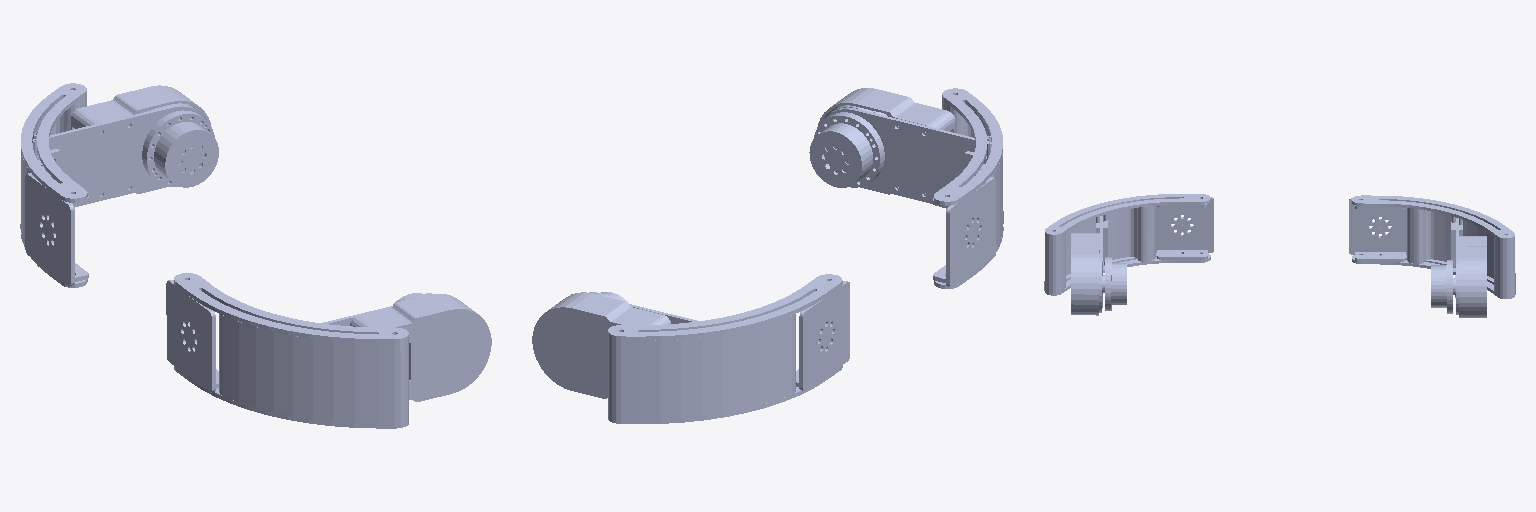
The robot description file, URDF, robot "exoskeleton_btp":
<?xml version="1.0" encoding="utf-8" ?>
<!-- This URDF was automatically created by SolidWorks to URDF Exporter! Originally created by [author] ([email redacted]) 
     Commit Version: 1.5.1-0-g916b5db  Build Version: 1.5.7152.31018
     For more information, please see http://wiki.ros.org/sw_urdf_exporter -->
<robot name="exoskeleton_btp">
    <link name="base_link">
        
<inertial>
            <origin xyz="0.1374 0.17784 0.29296" rpy="0 0 0" />
            <mass value="1.6284" />
            <inertia ixx="0.0049242" ixy="-1.1068E-07" ixz="1.4133E-05" iyy="0.0012571" iyz="6.8671E-06" izz="0.0040482" />
        </inertial>

        <visual>
            <origin xyz="0 0 0" rpy="0 0 0" />
            <geometry>
                <mesh filename="package://exoskeleton_btp/meshes/base_link.STL" />
            </geometry>
            <material name="">
                <color rgba="0.79216 0.81961 0.93333 1" />
            </material>
        </visual>
        <collision>
            <origin xyz="0 0 0" rpy="0 0 0" />
            <geometry>
                <mesh filename="package://exoskeleton_btp/meshes/base_link.STL" />
            </geometry>
        </collision>
    </link>
    <link name="right_abd">
        
<inertial>
            <origin xyz="0.060901 0.00077301 0.1073" rpy="0 0 0" />
            <mass value="0.39057" />
            <inertia ixx="0.0017341" ixy="-6.9806E-06" ixz="-0.0009688" iyy="0.0022726" iyz="-8.6331E-06" izz="0.0010696" />
        </inertial>

        <visual>
            <origin xyz="0 0 0" rpy="0 0 0" />
            <geometry>
                <mesh filename="package://exoskeleton_btp/meshes/right_abd.STL" />
            </geometry>
            <material name="">
                <color rgba="0.79216 0.81961 0.93333 1" />
            </material>
        </visual>
        <collision>
            <origin xyz="0 0 0" rpy="0 0 0" />
            <geometry>
                <mesh filename="package://exoskeleton_btp/meshes/right_abd.STL" />
            </geometry>
        </collision>
    </link>
    <joint name="joint_right_abd" type="continuous">
        <origin xyz="0.18866 -0.44997 0.15871" rpy="1.5762 -8.7598E-05 0" />
        <parent link="base_link" />
        <child link="right_abd" />
        <axis xyz="-0.99987 0 -0.016127" />
        <limit lower="-1.57" upper="1.57" effort="50" velocity="2" />
    </joint>
    <link name="right_IR">
        
<inertial>
            <origin xyz="-0.0392871810712728 0.0411109744677959 0.138935601316326" rpy="0 0 0" />
            <mass value="0.603610840109084" />
            <inertia ixx="0.000492310842165682" ixy="-2.43938943929523E-07" ixz="-1.74058723223123E-05" iyy="0.000854839735660645" iyz="2.49487643777159E-06" izz="0.00119850539145051" />
        </inertial>

        <visual>
            <origin xyz="0 0 0" rpy="0 0 0" />
            <geometry>
                <mesh filename="package://exoskeleton_btp/meshes/right_IR.STL" />
            </geometry>
            <material name="">
                <color rgba="0.792156862745098 0.819607843137255 0.933333333333333 1" />
            </material>
        </visual>
        <collision>
            <origin xyz="0 0 0" rpy="0 0 0" />
            <geometry>
                <mesh filename="package://exoskeleton_btp/meshes/right_IR.STL" />
            </geometry>
        </collision>
    </link>
    <joint name="joint_right_ir" type="continuous">
        <origin xyz="0.23659 -0.03974 0.0041779" rpy="0 -0.008859 6.4417E-05" />
        <parent link="right_abd" />
        <child link="right_IR" />
        <axis xyz="-0.00011727 -0.99997 0.0072704" />
        <limit lower="-0.78" upper="0.78" effort="0" velocity="0" />
    </joint>
    <link name="right_thigh">
        
<inertial>
            <origin xyz="-0.00587420466230082 -0.298902174142625 0.091775599276321" rpy="0 0 0" />
            <mass value="1.15370911386034" />
            <inertia ixx="0.00218007175592022" ixy="-1.55748585880625E-05" ixz="-4.42415137653492E-06" iyy="0.00132233462272001" iyz="5.74444533558131E-05" izz="0.00283882830556965" />
        </inertial>

        <visual>
            <origin xyz="0 0 0" rpy="0 0 0" />
            <geometry>
                <mesh filename="package://exoskeleton_btp/meshes/right_thigh.STL" />
            </geometry>
            <material name="">
                <color rgba="0.792156862745098 0.819607843137255 0.933333333333333 1" />
            </material>
        </visual>
        <collision>
            <origin xyz="0 0 0" rpy="0 0 0" />
            <geometry>
                <mesh filename="package://exoskeleton_btp/meshes/right_thigh.STL" />
            </geometry>
        </collision>
    </link>
    <joint name="joint_right_hip_flexion" type="continuous">
        <origin xyz="-0.0098949 0.050182 -0.00036542" rpy="0 0.00014564 0.020031" />
        <parent link="right_IR" />
        <child link="right_thigh" />
        <axis xyz="-5.6331E-05 0.0072704 0.99997" />
        <limit lower="-1.57" upper="1.57" effort="50" velocity="2" />
    </joint>
    <link name="right_shin">
        
<inertial>
            <origin xyz="-0.00484324975988659 -0.249966332784877 0.0473164354576108" rpy="0 0 0" />
            <mass value="1.02843390965148" />
            <inertia ixx="0.00235506979229389" ixy="-4.16475367765636E-05" ixz="-5.53584798297785E-06" iyy="0.00135441560259714" iyz="3.29601832998121E-05" izz="0.00314486729465403" />
        </inertial>

        <visual>
            <origin xyz="0 0 0" rpy="0 0 0" />
            <geometry>
                <mesh filename="package://exoskeleton_btp/meshes/right_shin.STL" />
            </geometry>
            <material name="">
                <color rgba="0.792156862745098 0.819607843137255 0.933333333333333 1" />
            </material>
        </visual>
        <collision>
            <origin xyz="0 0 0" rpy="0 0 0" />
            <geometry>
                <mesh filename="package://exoskeleton_btp/meshes/right_shin.STL" />
            </geometry>
        </collision>
    </link>
    <joint name="right_knee_joint" type="continuous">
        <origin xyz="-0.0080859 -0.43466 0.0031598" rpy="0 -4.2582E-05 -0.0058569" />
        <parent link="right_thigh" />
        <child link="right_shin" />
        <axis xyz="-5.6331E-05 0.0072704 0.99997" />
        <limit lower="0" upper="1.57" effort="50" velocity="2" />
    </joint>
    <link name="right_foot">
        
<inertial>
            <origin xyz="0.0270286138870783 -0.0603750401354918 -0.0491138257398857" rpy="0 0 0" />
            <mass value="0.488467661155972" />
            <inertia ixx="0.000615128535492023" ixy="3.500753715996E-06" ixz="-1.67688728203427E-08" iyy="0.000990291323750016" iyz="-3.84872415697616E-06" izz="0.000460939635747118" />
        </inertial>

        <visual>
            <origin xyz="0 0 0" rpy="0 0 0" />
            <geometry>
                <mesh filename="package://exoskeleton_btp/meshes/right_foot.STL" />
            </geometry>
            <material name="">
                <color rgba="0.792156862745098 0.819607843137255 0.933333333333333 1" />
            </material>
        </visual>
        <collision>
            <origin xyz="0 0 0" rpy="0 0 0" />
            <geometry>
                <mesh filename="package://exoskeleton_btp/meshes/right_foot.STL" />
            </geometry>
        </collision>
    </link>
    <joint name="right_ankle_flexion" type="continuous">
        <origin xyz="-0.0076107 -0.41617 0.0029527" rpy="0 -0.00017972 -0.024724" />
        <parent link="right_shin" />
        <child link="right_foot" />
        <axis xyz="-5.6331E-05 0.0072704 0.99997" />
        <limit lower="-0.78" upper="0.78" effort="0" velocity="0" />
    </joint>
    <link name="left_abd">
        
<inertial>
            <origin xyz="0.0652322924298407 -0.00922698573131753 0.107372356173445" rpy="0 0 0" />
            <mass value="0.390571538812804" />
            <inertia ixx="0.00173406573408417" ixy="-6.98064356900783E-06" ixz="-0.000968802831064001" iyy="0.00227256938156413" iyz="-8.6330776029772E-06" izz="0.00106961365428043" />
        </inertial>

        <visual>
            <origin xyz="0 0 0" rpy="0 0 0" />
            <geometry>
                <mesh filename="package://exoskeleton_btp/meshes/left_abd.STL" />
            </geometry>
            <material name="">
                <color rgba="0.792156862745098 0.819607843137255 0.933333333333333 1" />
            </material>
        </visual>
        <collision>
            <origin xyz="0 0 0" rpy="0 0 0" />
            <geometry>
                <mesh filename="package://exoskeleton_btp/meshes/left_abd.STL" />
            </geometry>
        </collision>
    </link>
    <joint name="joint_left_abd" type="continuous">
        <origin xyz="0.18936 -0.13768 0.14796" rpy="-1.5627 0.00013065 -0.032255" />
        <parent link="base_link" />
        <child link="left_abd" />
        <axis xyz="-0.99987 0 -0.016127" />
        <limit lower="-1.57" upper="1.57" effort="50" velocity="2" />
    </joint>
    <link name="left_IR">
        
<inertial>
            <origin xyz="-0.0392990142875405 -0.0497943875974824 0.139669246292548" rpy="0 0 0" />
            <mass value="0.603610840109083" />
            <inertia ixx="0.000492310842165682" ixy="-2.43938943929588E-07" ixz="-1.74058723223128E-05" iyy="0.000854839735660643" iyz="2.49487643777121E-06" izz="0.0011985053914505" />
        </inertial>

        <visual>
            <origin xyz="0 0 0" rpy="0 0 0" />
            <geometry>
                <mesh filename="package://exoskeleton_btp/meshes/left_IR.STL" />
            </geometry>
            <material name="">
                <color rgba="0.792156862745098 0.819607843137255 0.933333333333333 1" />
            </material>
        </visual>
        <collision>
            <origin xyz="0 0 0" rpy="0 0 0" />
            <geometry>
                <mesh filename="package://exoskeleton_btp/meshes/left_IR.STL" />
            </geometry>
        </collision>
    </link>
    <joint name="joint_left_ir" type="continuous">
        <origin xyz="0.24094 0.041166 0.0035141" rpy="0 -0.03127 0.00022748" />
        <parent link="left_abd" />
        <child link="left_IR" />
        <axis xyz="-0.00011727 -0.99997 0.0072704" />
        <limit lower="-0.78" upper="0.78" effort="0" velocity="0" />
    </joint>
    <link name="left_thigh">
        
<inertial>
            <origin xyz="-0.00587419889410834 -0.288902135446464 0.0917754024034975" rpy="0 0 0" />
            <mass value="1.15370940261833" />
            <inertia ixx="0.00218007113154743" ixy="-1.5574685975789E-05" ixz="-4.42993941603603E-06" iyy="0.00132233519439819" iyz="5.74409958686481E-05" izz="0.00283882929782907" />
        </inertial>

        <visual>
            <origin xyz="0 0 0" rpy="0 0 0" />
            <geometry>
                <mesh filename="package://exoskeleton_btp/meshes/left_thigh.STL" />
            </geometry>
            <material name="">
                <color rgba="0.792156862745098 0.819607843137255 0.933333333333333 1" />
            </material>
        </visual>
        <collision>
            <origin xyz="0 0 0" rpy="0 0 0" />
            <geometry>
                <mesh filename="package://exoskeleton_btp/meshes/left_thigh.STL" />
            </geometry>
        </collision>
    </link>
    <joint name="joint_left_hip_flexion" type="continuous">
        <origin xyz="-0.0097064 -0.050721 0.00036823" rpy="0.01454 -0.00010065 -3.1123" />
        <parent link="left_IR" />
        <child link="left_thigh" />
        <axis xyz="-5.6331E-05 0.0072704 0.99997" />
        <limit lower="-1.57" upper="1.57" effort="50" velocity="2" />
    </joint>
    <link name="left_shin">
        
<inertial>
            <origin xyz="0.0021572666461262 -0.242332427675037 -0.0452747616492767" rpy="0 0 0" />
            <mass value="1.03950139195202" />
            <inertia ixx="0.00235534748488329" ixy="1.0328444631963E-06" ixz="-5.62826250871304E-06" iyy="0.00135495549315268" iyz="-1.74678122164304E-05" izz="0.00314522174843718" />
        </inertial>

        <visual>
            <origin xyz="0 0 0" rpy="0 0 0" />
            <geometry>
                <mesh filename="package://exoskeleton_btp/meshes/left_shin.STL" />
            </geometry>
            <material name="">
                <color rgba="0.792156862745098 0.819607843137255 0.933333333333333 1" />
            </material>
        </visual>
        <collision>
            <origin xyz="0 0 0" rpy="0 0 0" />
            <geometry>
                <mesh filename="package://exoskeleton_btp/meshes/left_shin.STL" />
            </geometry>
        </collision>
    </link>
    <joint name="joint_left_knee_flexion" type="continuous">
        <origin xyz="-0.0081444 -0.43466 0.0031598" rpy="-3.1343 0.00027035 3.1121" />
        <parent link="left_thigh" />
        <child link="left_shin" />
        <axis xyz="0 0 -1" />
        <limit lower="0" upper="1.57" effort="50" velocity="2" />
    </joint>
    <link name="left_foot">
        
<inertial>
            <origin xyz="0.0267458471873576 -0.0597868208876867 0.0498052197209016" rpy="0 0 0" />
            <mass value="0.490370608685154" />
            <inertia ixx="0.000615366860470383" ixy="7.52417050805258E-06" ixz="-5.27465873232875E-12" iyy="0.000990180392648353" iyz="2.64536994064652E-12" izz="0.000460940554043818" />
        </inertial>

        <visual>
            <origin xyz="0 0 0" rpy="0 0 0" />
            <geometry>
                <mesh filename="package://exoskeleton_btp/meshes/left_foot.STL" />
            </geometry>
            <material name="">
                <color rgba="0.792156862745098 0.819607843137255 0.933333333333333 1" />
            </material>
        </visual>
        <collision>
            <origin xyz="0 0 0" rpy="0 0 0" />
            <geometry>
                <mesh filename="package://exoskeleton_btp/meshes/left_foot.STL" />
            </geometry>
        </collision>
    </link>
    <joint name="joint_left_ankle_flexion" type="continuous">
        <origin xyz="0.0031757 -0.40989 0" rpy="0 0 0" />
        <parent link="left_shin" />
        <child link="left_foot" />
        <axis xyz="0 0 -1" />
        <limit lower="-0.78" upper="0.78" effort="0" velocity="0" />
    </joint>
    <link name="world" />
    <joint name="world_joint" type="fixed">
        <parent link="world" />
        <child link="base_link" />
        <origin xyz="0.0 0.0 1" rpy="0.0 0.0 0.0" />
    </joint>
    
<transmission name="trans_joint_right_abd">
        <type>transmission_interface/SimpleTransmission</type>
        <joint name="joint_right_abd">
            <hardwareInterface>hardware_interface/PositionJointInterface</hardwareInterface>
        </joint>
        <actuator name="joint_right_abd_motor">
            <hardwareInterface>hardware_interface/PositionJointInterface</hardwareInterface>
            <mechanicalReduction>1</mechanicalReduction>
        </actuator>
    </transmission>
    <transmission name="trans_joint_right_ir">
        <type>transmission_interface/SimpleTransmission</type>
        <joint name="joint_right_ir">
            <hardwareInterface>hardware_interface/PositionJointInterface</hardwareInterface>
        </joint>
        <actuator name="joint_right_ir_motor">
            <hardwareInterface>hardware_interface/PositionJointInterface</hardwareInterface>
            <mechanicalReduction>1</mechanicalReduction>
        </actuator>
    </transmission>
    <transmission name="trans_joint_right_hip_flexion">
        <type>transmission_interface/SimpleTransmission</type>
        <joint name="joint_right_hip_flexion">
            <hardwareInterface>hardware_interface/PositionJointInterface</hardwareInterface>
        </joint>
        <actuator name="joint_right_hip_flexion_motor">
            <hardwareInterface>hardware_interface/PositionJointInterface</hardwareInterface>
            <mechanicalReduction>1</mechanicalReduction>
        </actuator>
    </transmission>
    <transmission name="trans_right_knee_joint">
        <type>transmission_interface/SimpleTransmission</type>
        <joint name="right_knee_joint">
            <hardwareInterface>hardware_interface/PositionJointInterface</hardwareInterface>
        </joint>
        <actuator name="right_knee_joint_motor">
            <hardwareInterface>hardware_interface/PositionJointInterface</hardwareInterface>
            <mechanicalReduction>1</mechanicalReduction>
        </actuator>
    </transmission>
    <transmission name="trans_right_ankle_flexion">
        <type>transmission_interface/SimpleTransmission</type>
        <joint name="right_ankle_flexion">
            <hardwareInterface>hardware_interface/PositionJointInterface</hardwareInterface>
        </joint>
        <actuator name="right_ankle_flexion_motor">
            <hardwareInterface>hardware_interface/PositionJointInterface</hardwareInterface>
            <mechanicalReduction>1</mechanicalReduction>
        </actuator>
    </transmission>
    <transmission name="trans_joint_left_abd">
        <type>transmission_interface/SimpleTransmission</type>
        <joint name="joint_left_abd">
            <hardwareInterface>hardware_interface/PositionJointInterface</hardwareInterface>
        </joint>
        <actuator name="joint_left_abd_motor">
            <hardwareInterface>hardware_interface/PositionJointInterface</hardwareInterface>
            <mechanicalReduction>1</mechanicalReduction>
        </actuator>
    </transmission>
    <transmission name="trans_joint_left_ir">
        <type>transmission_interface/SimpleTransmission</type>
        <joint name="joint_left_ir">
            <hardwareInterface>hardware_interface/PositionJointInterface</hardwareInterface>
        </joint>
        <actuator name="joint_left_ir_motor">
            <hardwareInterface>hardware_interface/PositionJointInterface</hardwareInterface>
            <mechanicalReduction>1</mechanicalReduction>
        </actuator>
    </transmission>
    <transmission name="trans_joint_left_hip_flexion">
        <type>transmission_interface/SimpleTransmission</type>
        <joint name="joint_left_hip_flexion">
            <hardwareInterface>hardware_interface/PositionJointInterface</hardwareInterface>
        </joint>
        <actuator name="joint_left_hip_flexion_motor">
            <hardwareInterface>hardware_interface/PositionJointInterface</hardwareInterface>
            <mechanicalReduction>1</mechanicalReduction>
        </actuator>
    </transmission>
    <transmission name="trans_joint_left_knee_flexion">
        <type>transmission_interface/SimpleTransmission</type>
        <joint name="joint_left_knee_flexion">
            <hardwareInterface>hardware_interface/PositionJointInterface</hardwareInterface>
        </joint>
        <actuator name="joint_left_knee_flexion_motor">
            <hardwareInterface>hardware_interface/PositionJointInterface</hardwareInterface>
            <mechanicalReduction>1</mechanicalReduction>
        </actuator>
    </transmission>
    <transmission name="trans_joint_left_ankle_flexion">
        <type>transmission_interface/SimpleTransmission</type>
        <joint name="joint_left_ankle_flexion">
            <hardwareInterface>hardware_interface/PositionJointInterface</hardwareInterface>
        </joint>
        <actuator name="joint_left_ankle_flexion_motor">
            <hardwareInterface>hardware_interface/PositionJointInterface</hardwareInterface>
            <mechanicalReduction>1</mechanicalReduction>
        </actuator>
    </transmission>
    <gazebo>
        <plugin name="gazebo_ros_control" filename="libgazebo_ros_control.so">
            <robotNamespace>/</robotNamespace>
        </plugin>
    </gazebo>
</robot>

--- What the picture shows (computed from the rendered views, not written in the file) ---
3 views of the same robot in one strip: view 1: azimuth 30°, elevation 25°; view 2: azimuth 150°, elevation 25°; view 3: azimuth 270°, elevation 25° (orthographic).
Model exoskeleton_btp with 12 links and 11 joints (10 continuous, 1 fixed), rooted at world, posed all joints at 0.
Visible links, largest first — view 1: right_abd, left_IR, left_abd, right_IR; view 2: left_abd, right_IR, right_abd, left_IR; view 3: right_abd, left_abd, right_IR, left_IR.
Boxes of the visible links, x1,y1,x2,y2 form: right_abd: (166,273,408,428); left_IR: (32,85,218,207); left_abd: (20,83,88,287); right_IR: (322,293,491,401); left_abd: (608,274,849,423); right_IR: (809,88,991,203); right_abd: (933,88,1003,288); left_IR: (532,292,697,398); right_abd: (1044,194,1213,295); left_abd: (1349,195,1515,298); right_IR: (1071,214,1126,315); left_IR: (1431,216,1486,317).
Size in the robot's own frame: 0.2811 by 0.743 by 0.1072 metres.
4 mesh visuals loaded from 11 distinct referenced files (4 binary STL); not drawn: 7 (reference not matched to a file when rendering).